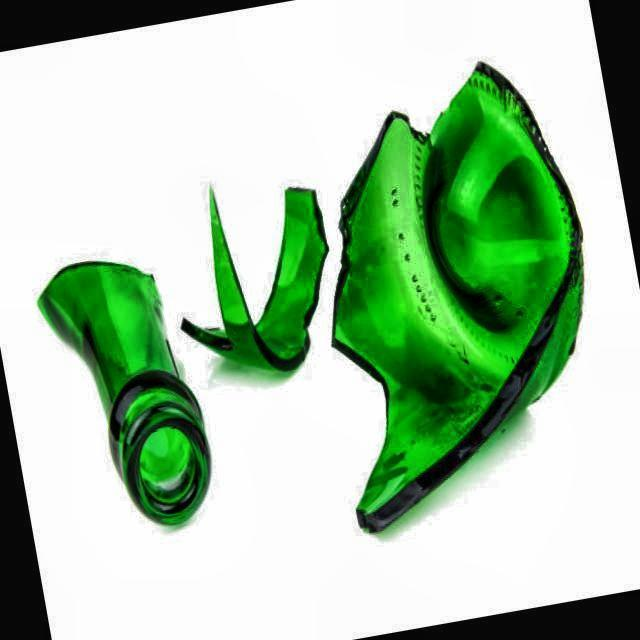glass: (331, 63, 585, 536), (37, 262, 212, 532), (181, 186, 329, 374)
